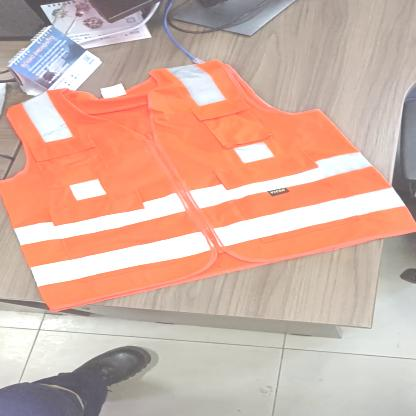colete: (0, 58, 416, 315)
